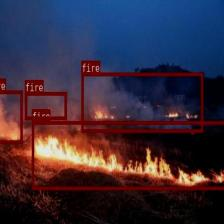fire: (32, 121, 224, 189), (81, 72, 202, 132), (0, 90, 22, 143), (24, 92, 67, 119)
